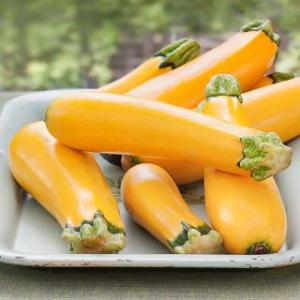zucchini: (37, 77, 299, 175)
